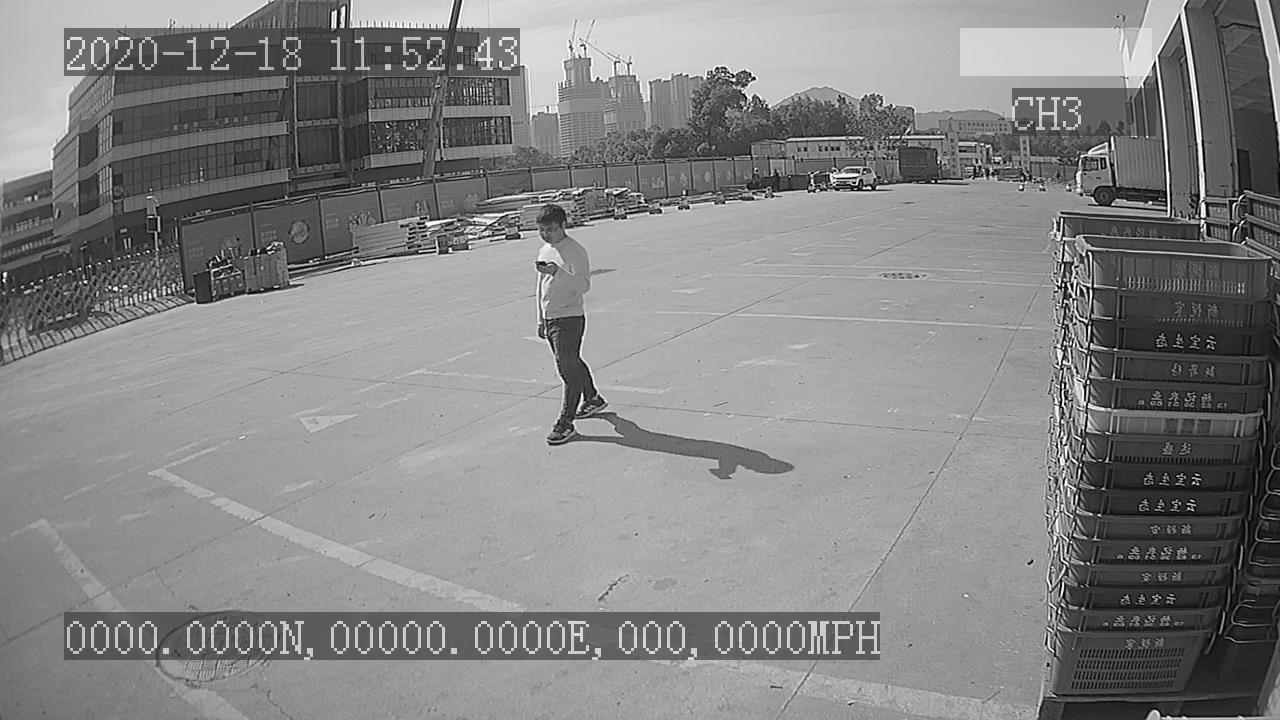person: (527, 197, 611, 454)
